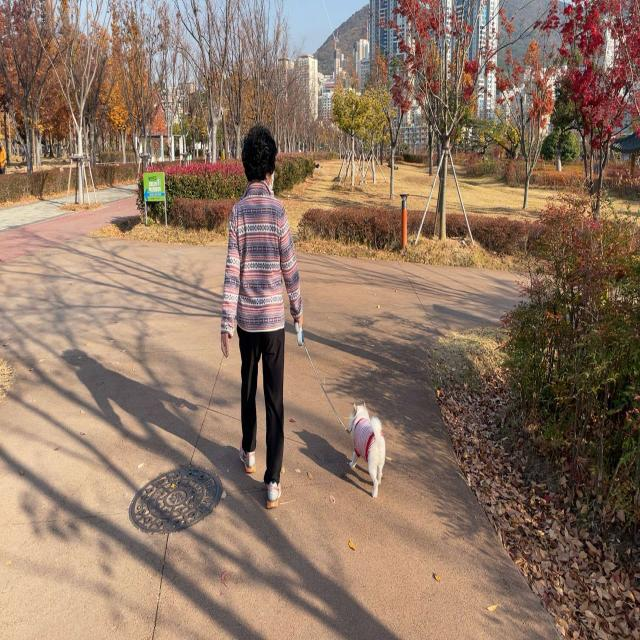Leashed_Dog: (273, 309, 387, 499)
